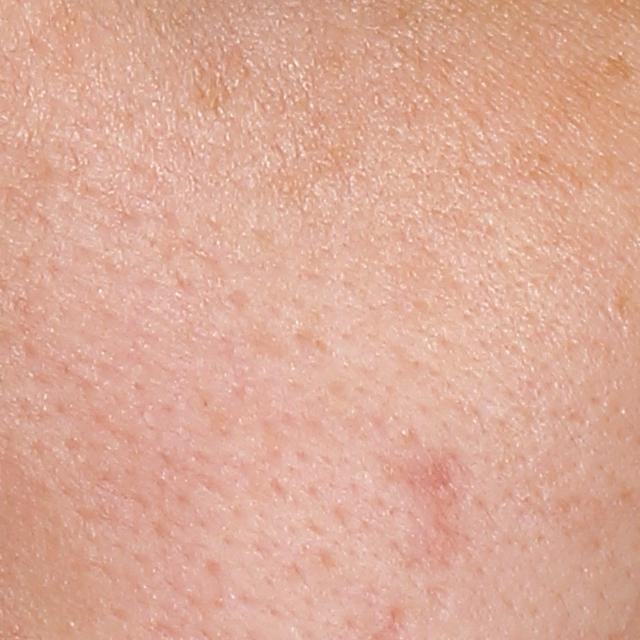atrophic_scar: (394, 448, 478, 576)
melasma: (186, 38, 257, 120)
